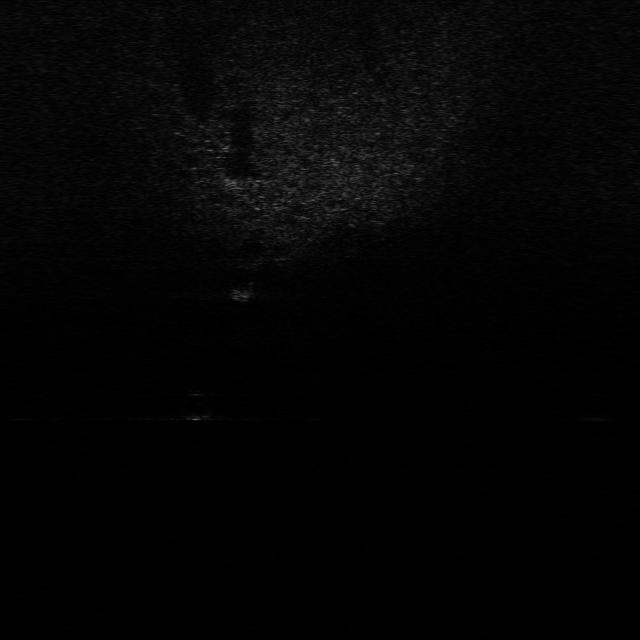ball: (176, 392, 217, 424)
cube: (227, 277, 259, 303)
